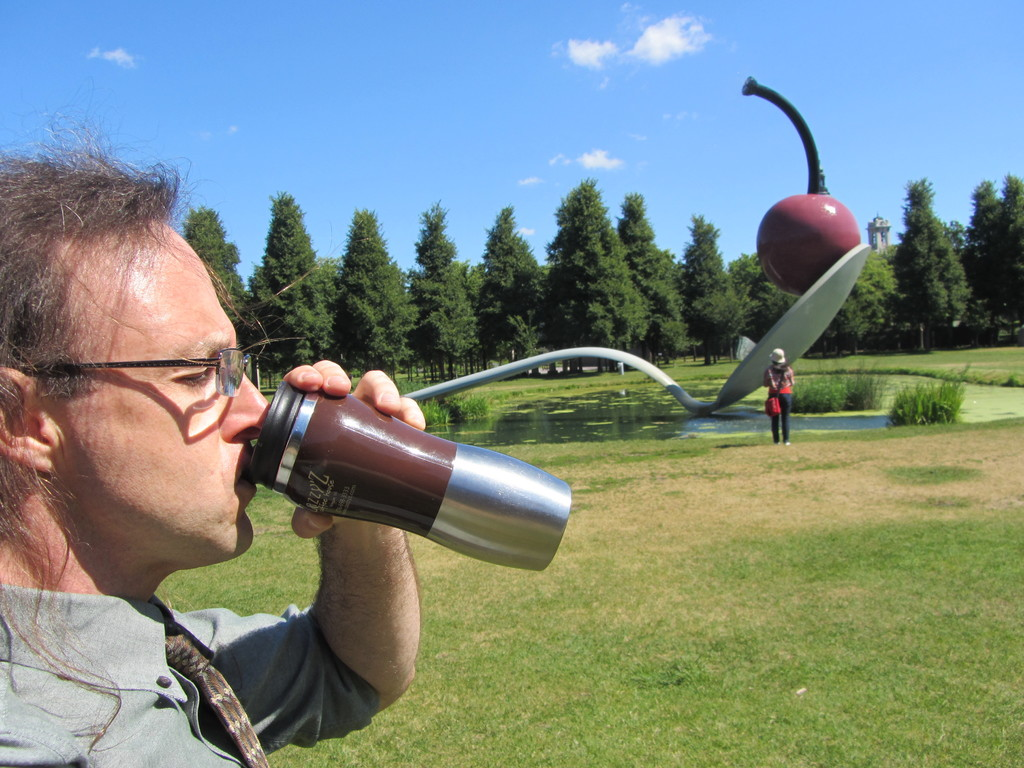Tree: (180, 170, 1023, 394)
